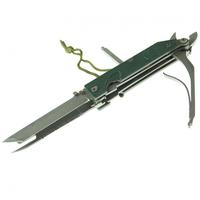knife: (2, 31, 190, 144)
